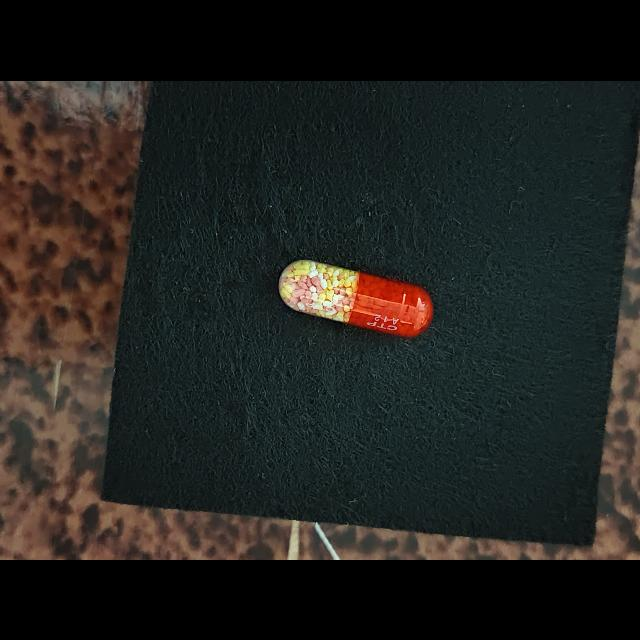Intact Capsule: (279, 259, 433, 337)
